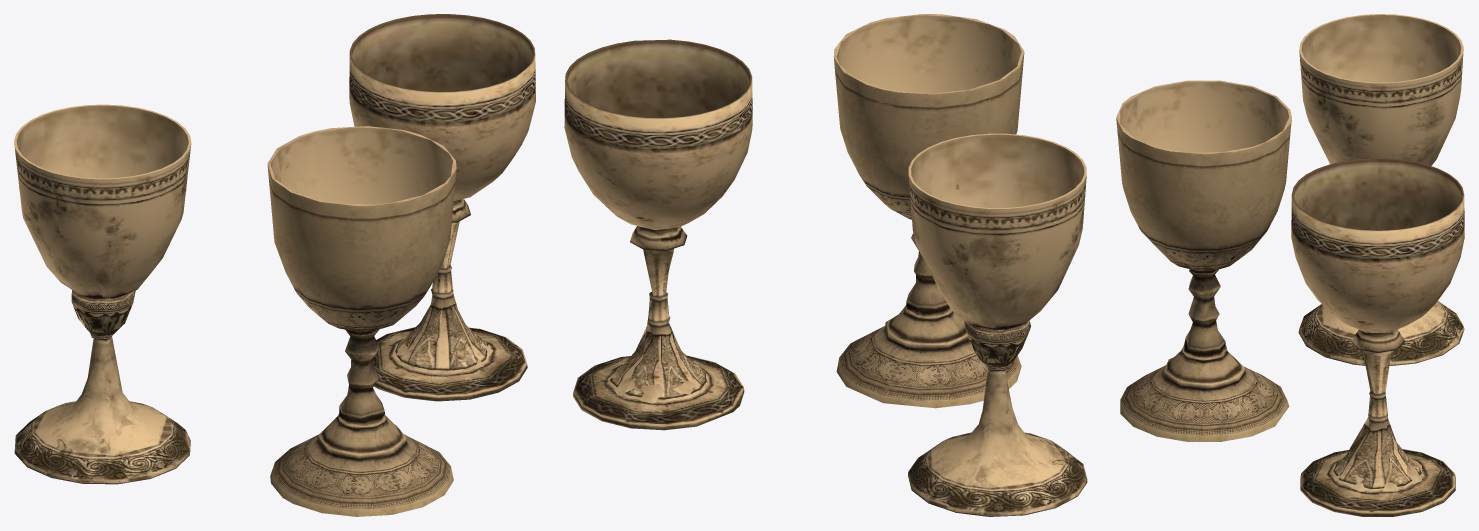
File: brass_goblets.glb
The picture shows the model from 3 angles, left to right: view 1: azimuth 30°, elevation 25°; view 2: azimuth 150°, elevation 25°; view 3: azimuth 270°, elevation 25°; orthographic projection. The views are drawn at different scales.
Parts seen in each view (by area): view 1: brass_goblet_01, brass_goblet_02, brass_goblet_03; view 2: brass_goblet_02, brass_goblet_03, brass_goblet_01; view 3: brass_goblet_01, brass_goblet_03, brass_goblet_02.
Part boxes in pixels (x1,y1,x2,y2): brass_goblet_01: (267, 126, 456, 516); brass_goblet_02: (14, 104, 191, 484); brass_goblet_03: (349, 14, 535, 401); brass_goblet_02: (908, 133, 1087, 516); brass_goblet_03: (564, 39, 752, 430); brass_goblet_01: (833, 14, 1024, 408); brass_goblet_01: (1116, 80, 1291, 441); brass_goblet_03: (1291, 158, 1464, 516); brass_goblet_02: (1298, 14, 1464, 365).
Bounding box in the file's own units: 0.4527 × 0.2734 × 0.2969.
Materials: 3 (3 with a texture image).
